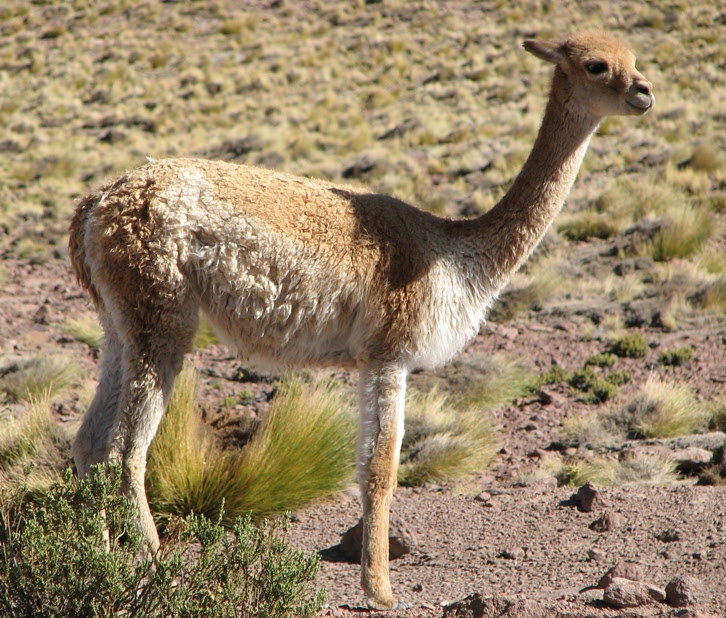eye: (575, 49, 610, 85)
mouth: (626, 96, 663, 120)
